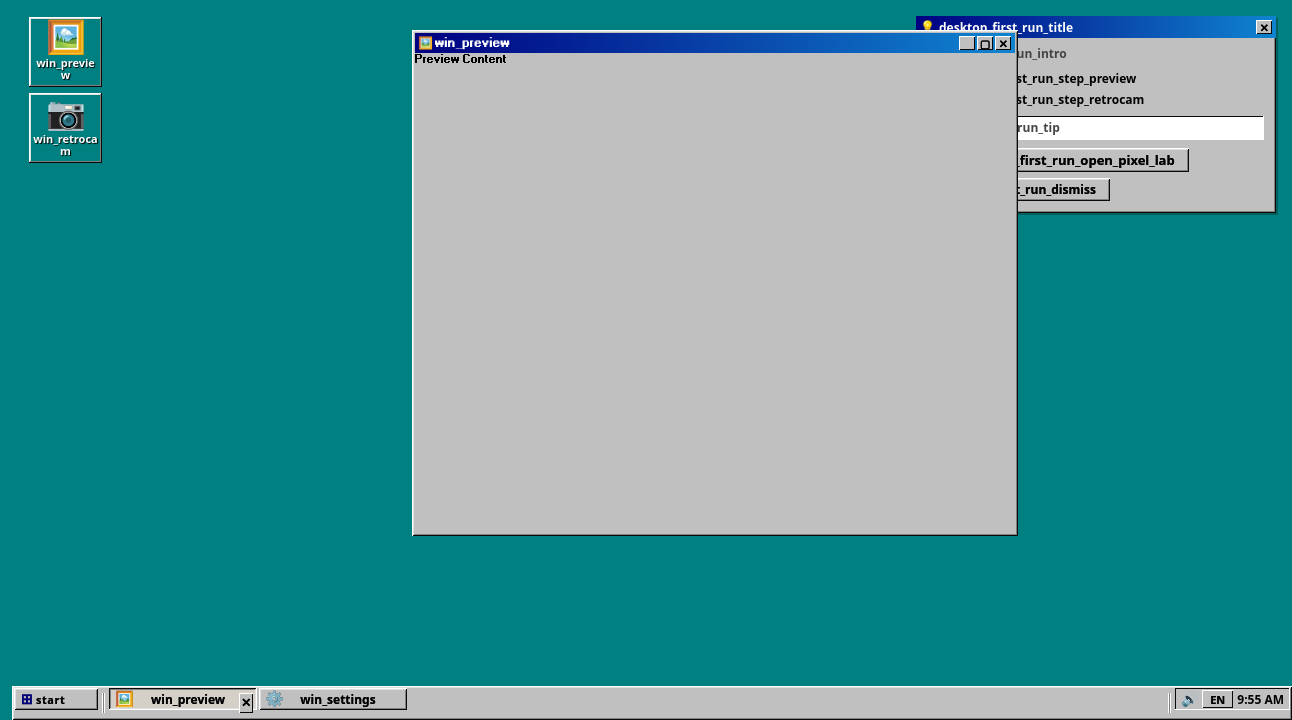
Test: Desktop shell flow › persists dismissal of the first-run desktop guide
Click the button with test id "desktop-first-run-dismiss": x=1264, y=27 [1256, 20, 1272, 34]
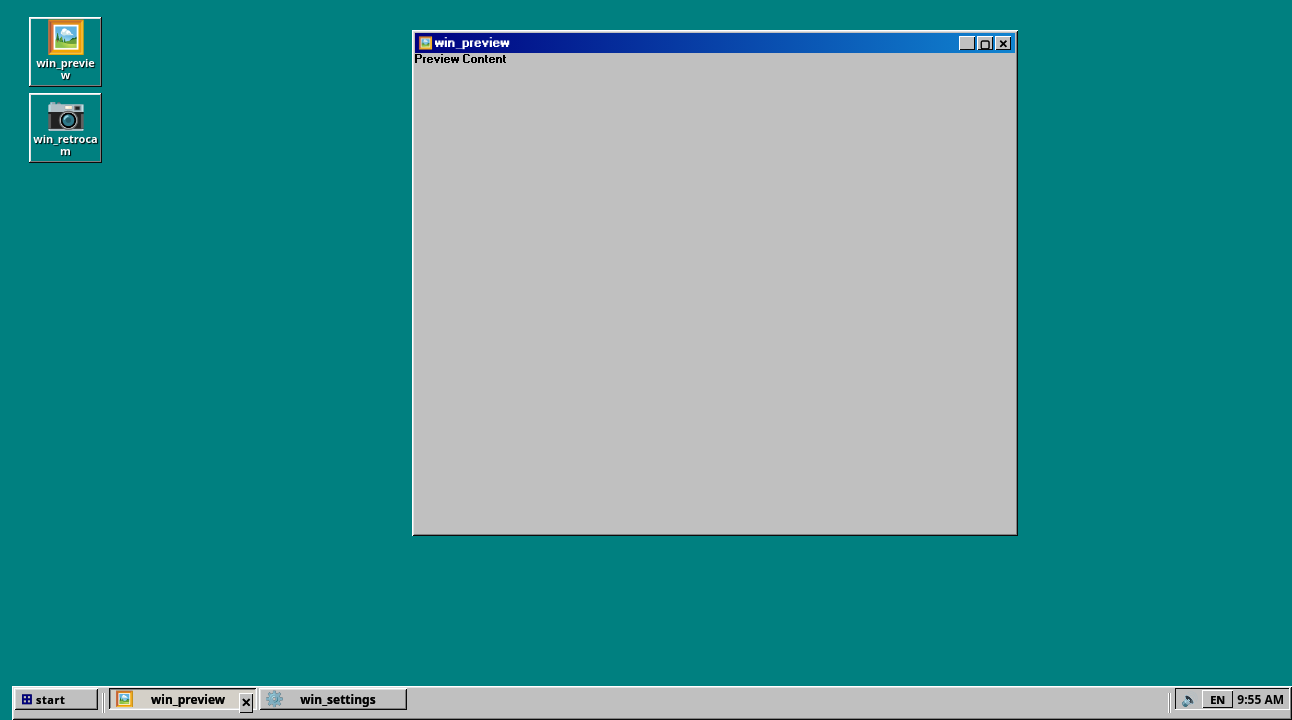
expect the element with test id "desktop-first-run-guide" is gone: met
